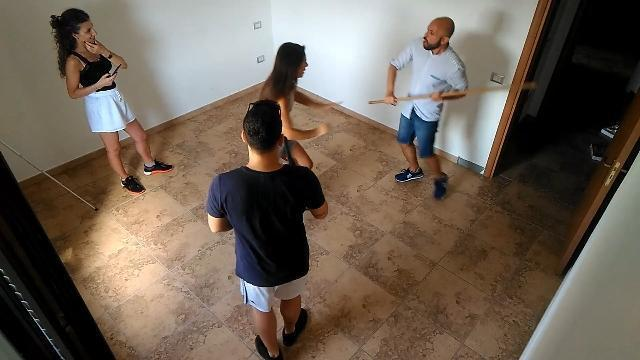non-violence: (49, 9, 174, 194), (249, 42, 343, 204)
violence: (206, 98, 330, 360), (366, 14, 534, 204)
weapon: (285, 136, 294, 165)
